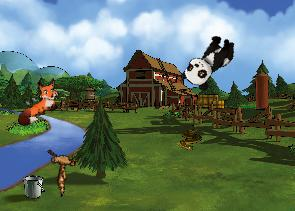eagle: (34, 138, 90, 197)
fox: (6, 74, 68, 129)
panda: (178, 28, 240, 94)
